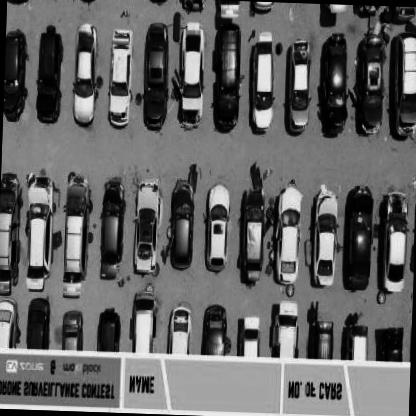car: (63, 174, 91, 297), (351, 36, 385, 136), (212, 22, 242, 132), (343, 187, 373, 292), (142, 20, 170, 130), (321, 34, 351, 135), (170, 168, 199, 270), (178, 23, 206, 128), (382, 191, 410, 294), (99, 179, 126, 282), (73, 26, 100, 127), (390, 33, 415, 141), (36, 32, 65, 125), (286, 40, 314, 136), (133, 176, 160, 275), (204, 180, 230, 274), (240, 192, 265, 289), (3, 29, 29, 120), (314, 188, 338, 286), (108, 34, 133, 128), (276, 188, 300, 282), (252, 44, 276, 136), (132, 288, 156, 350), (202, 303, 228, 356), (170, 304, 191, 354), (28, 298, 48, 350), (0, 298, 19, 348), (63, 311, 83, 349)
